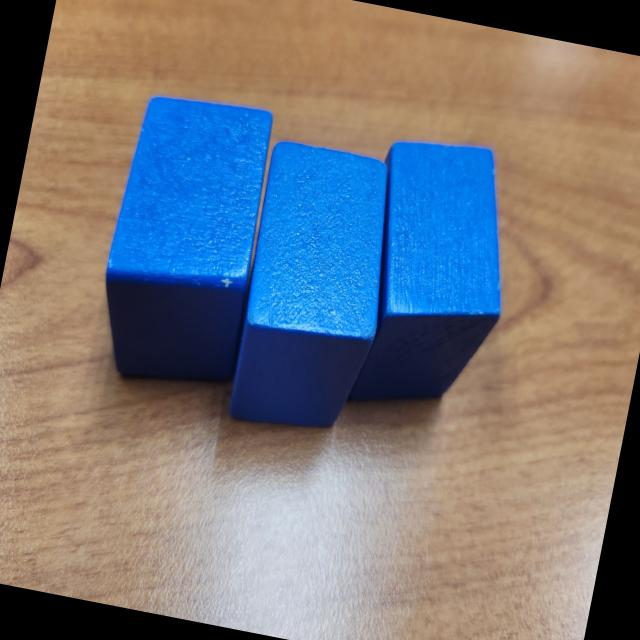blue: (86, 86, 286, 400), (220, 138, 410, 446), (337, 130, 530, 430)
